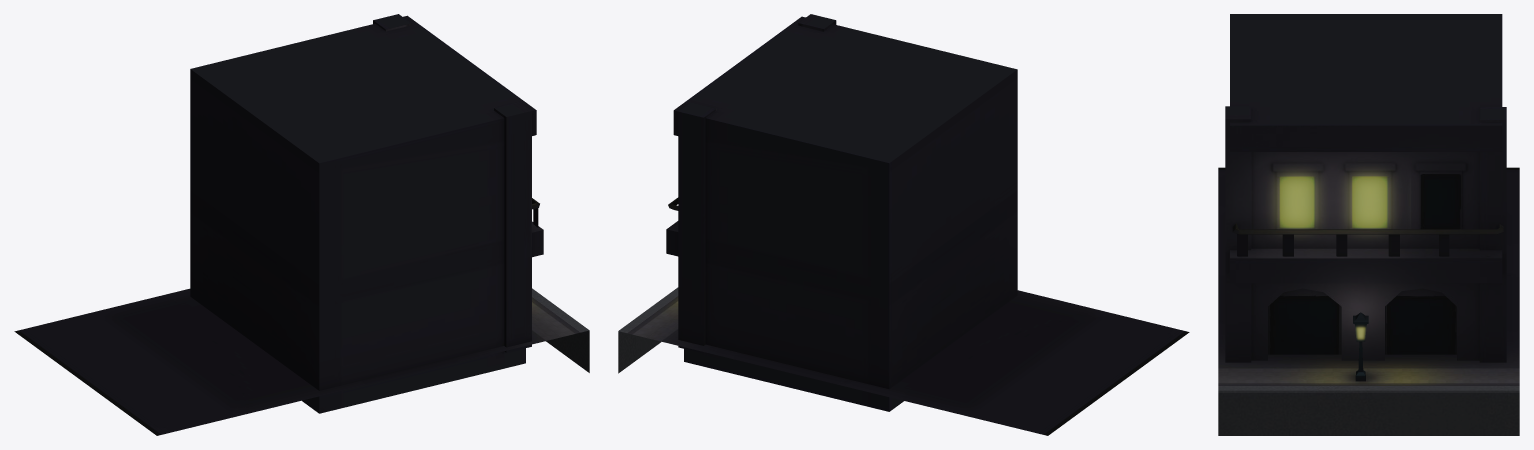
File: modelB1-2.fbx
3 renders of one model, left to right at view 1: azimuth 30°, elevation 25°; view 2: azimuth 150°, elevation 25°; view 3: azimuth 270°, elevation 25°, orthographic. The views are drawn at different scales.
Visible parts, largest first — view 1: modelB002; view 2: modelB002; view 3: modelB002.
Boxes of the visible parts, x1,y1,x2,y2 form: modelB002: [14, 14, 589, 435]; modelB002: [618, 14, 1189, 435]; modelB002: [1218, 14, 1519, 435].
Size of the model in its own units: 700 by 423 by 400.
